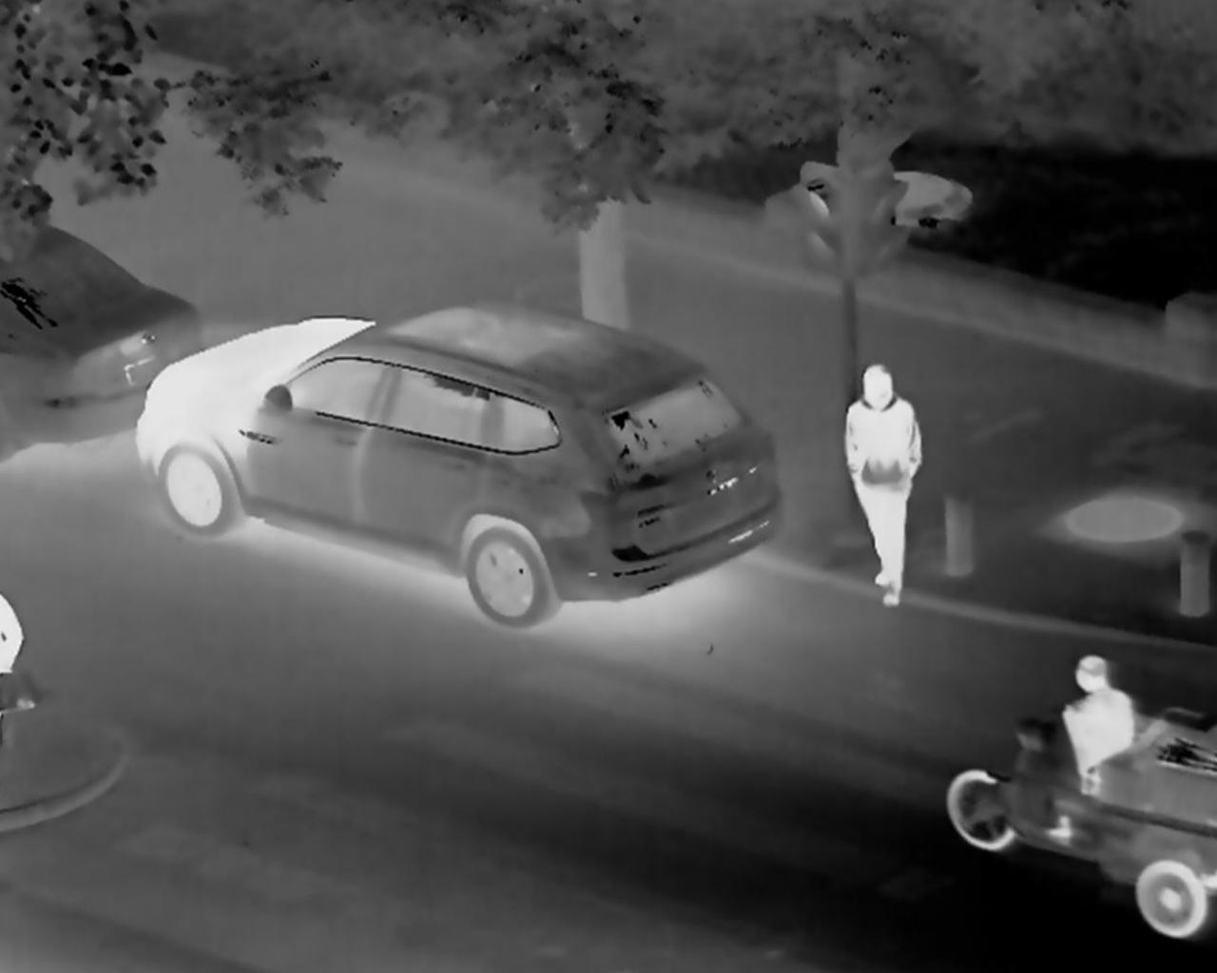person: (836, 354, 925, 590), (1033, 632, 1131, 793)
